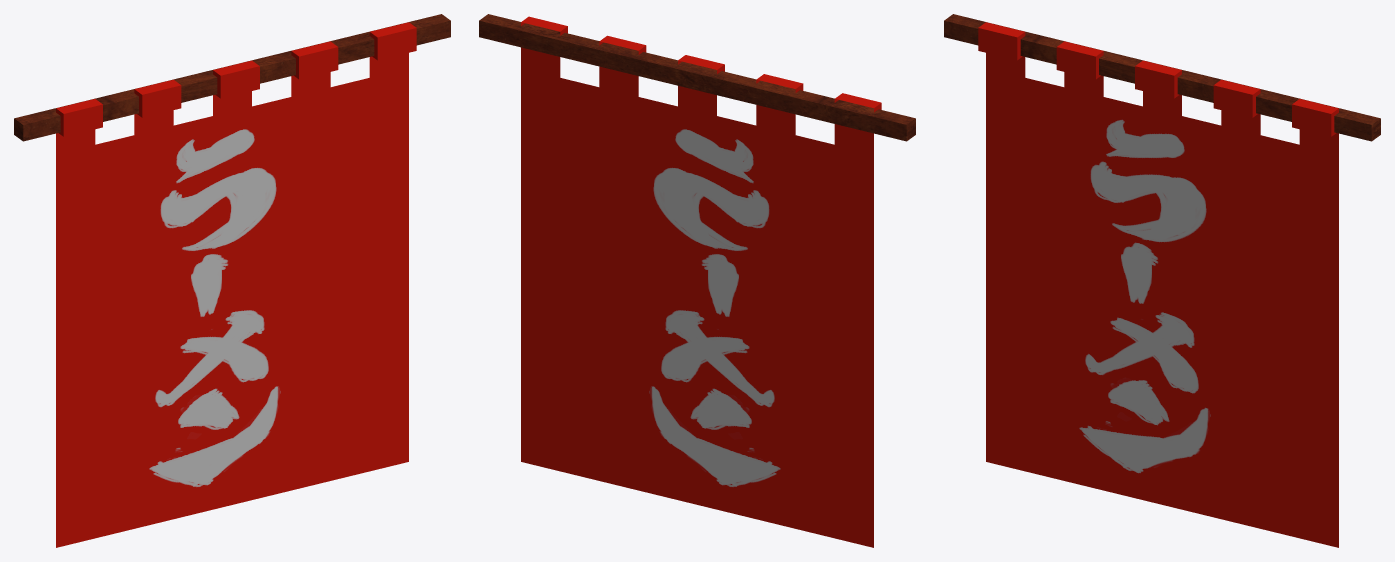
Rendered from FlamulaRamen.fbx.
The picture shows the model from 3 angles, left to right: view 1: azimuth 30°, elevation 25°; view 2: azimuth 150°, elevation 25°; view 3: azimuth 330°, elevation 25°; orthographic projection.
Parts seen in each view (by area): view 1: CortinaDeLamen; view 2: CortinaDeLamen; view 3: CortinaDeLamen.
Boxes of the visible parts, left/top/right/bottom form: CortinaDeLamen: left=14, top=14, right=450, bottom=547; CortinaDeLamen: left=479, top=14, right=915, bottom=547; CortinaDeLamen: left=944, top=14, right=1380, bottom=547.
Size of the model in its own units: 125 by 122 by 6.22.
